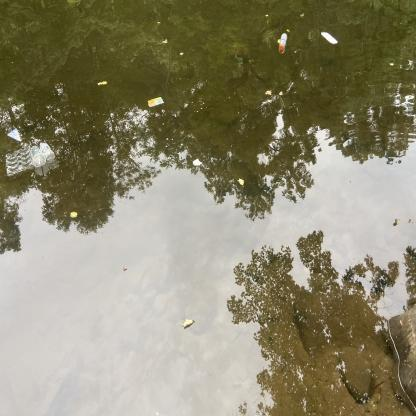trash: (5, 144, 35, 180), (28, 145, 48, 168), (38, 140, 56, 164), (5, 127, 24, 144), (320, 30, 340, 46), (146, 95, 166, 108), (278, 32, 289, 52)
